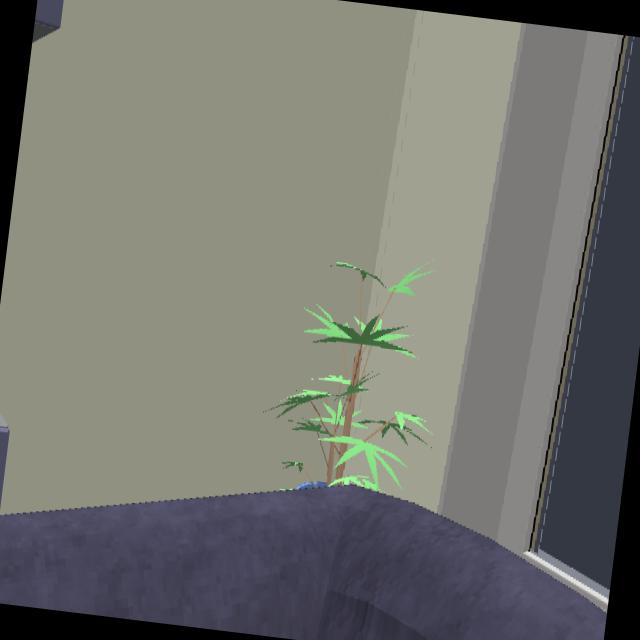sofa: (0, 486, 606, 640)
